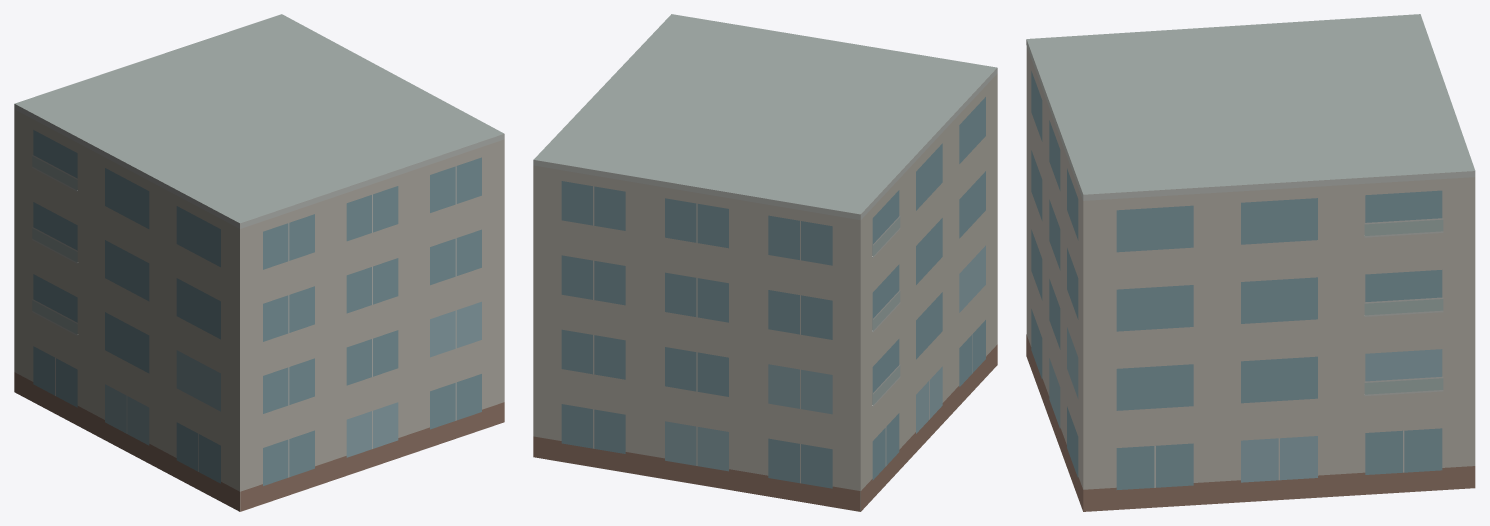
Rendered from survey-upis-32734527.glb.
The picture shows the model from 3 angles, left to right: view 1: azimuth 30°, elevation 25°; view 2: azimuth 150°, elevation 25°; view 3: azimuth 270°, elevation 25°; orthographic projection. The views are drawn at different scales.
Visible parts, largest first — view 1: survey-upis-32734527.tmp; view 2: survey-upis-32734527.tmp; view 3: survey-upis-32734527.tmp.
Part boxes in pixels (box(x1,y1,x2,y2)): survey-upis-32734527.tmp: box(14, 14, 504, 511); survey-upis-32734527.tmp: box(533, 14, 997, 511); survey-upis-32734527.tmp: box(1026, 14, 1475, 511).
Bounding box in the file's own units: 15.41 × 12.6 × 16.18.
